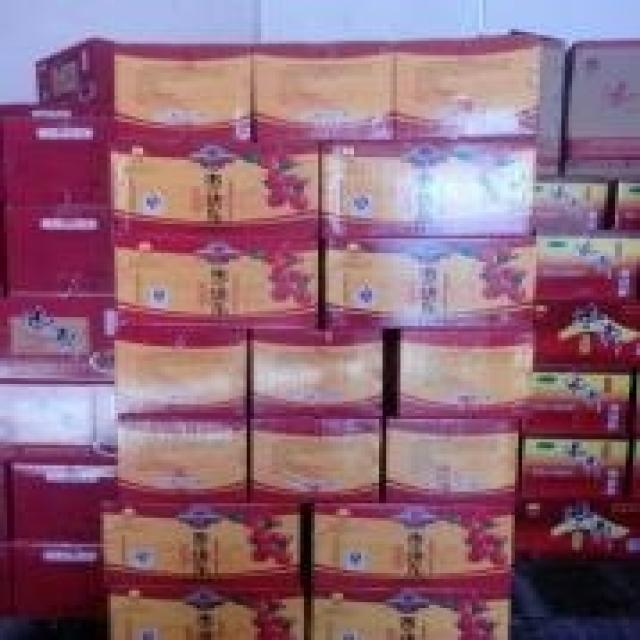box: (322, 137, 536, 239), (111, 140, 318, 236), (311, 503, 515, 593), (325, 239, 536, 326), (114, 239, 318, 326), (100, 506, 300, 593), (393, 38, 540, 137), (254, 41, 390, 137), (111, 44, 250, 137), (397, 329, 536, 416), (250, 329, 383, 419), (114, 329, 247, 419), (383, 416, 518, 503), (0, 105, 111, 204), (561, 41, 640, 180), (250, 419, 379, 503), (118, 422, 247, 503), (0, 207, 111, 297), (307, 593, 508, 640), (0, 300, 111, 381), (0, 387, 114, 465), (111, 596, 304, 640), (11, 468, 114, 541), (7, 544, 107, 617), (522, 372, 633, 436), (536, 303, 640, 369), (518, 500, 640, 556), (518, 439, 629, 497), (536, 239, 640, 300), (36, 41, 111, 113), (536, 38, 565, 177), (536, 183, 608, 233), (611, 180, 640, 233)
